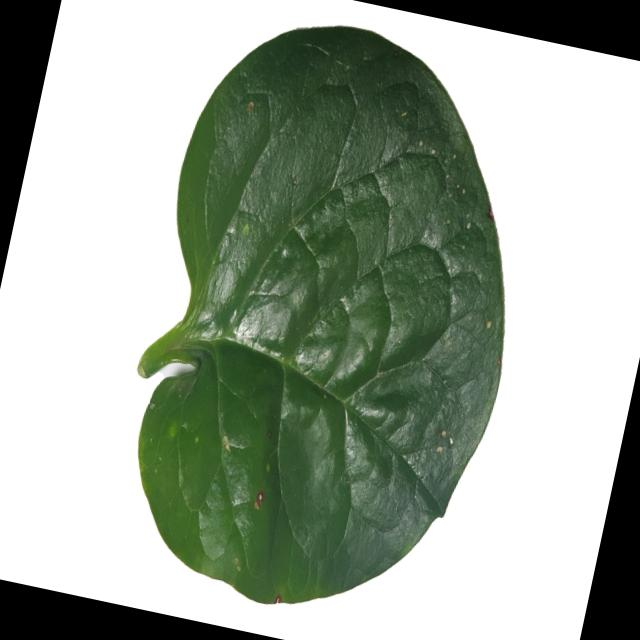Medicinal-Basale: (95, 0, 566, 640)
